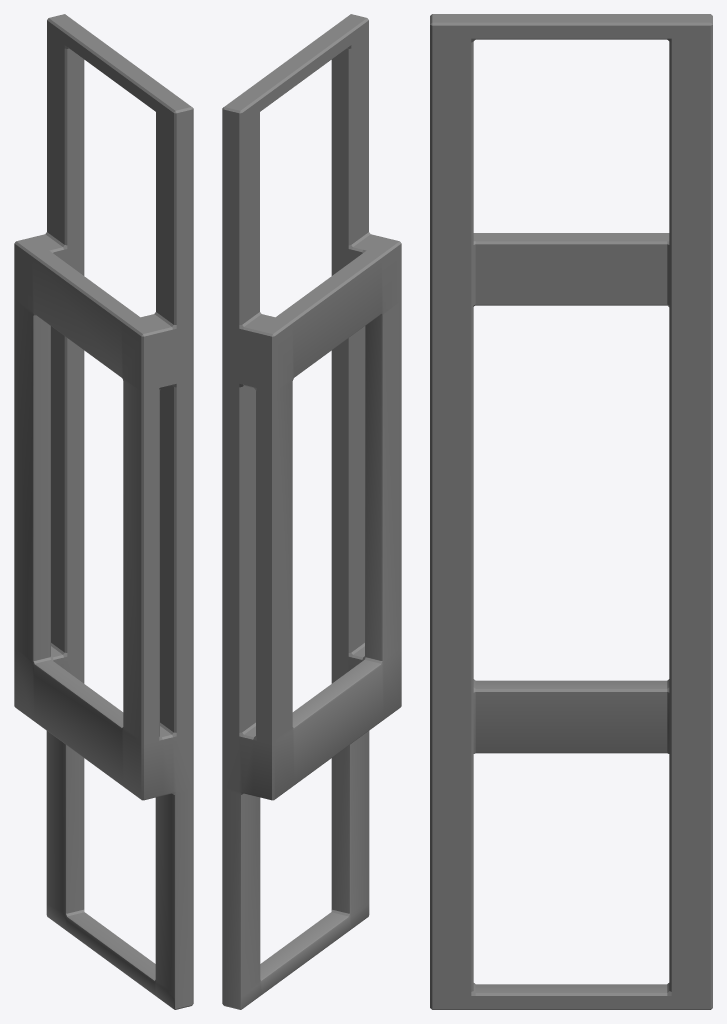
File: SM_Props_01.fbx
3 views of the same model, side by side, from view 1: azimuth 30°, elevation 25°; view 2: azimuth 150°, elevation 25°; view 3: azimuth 270°, elevation 25° (orthographic). The views are drawn at different scales.
Visible parts, largest first — view 1: SM_Props_01; view 2: SM_Props_01; view 3: SM_Props_01.
Boxes of the visible parts, x1,y1,x2,y2 form: SM_Props_01: (14,14,193,1009); SM_Props_01: (222,14,401,1009); SM_Props_01: (430,14,712,1009).
Size of the model in its own units: 5.04 by 21.54 by 82.9.
1 material, 1 textured.
